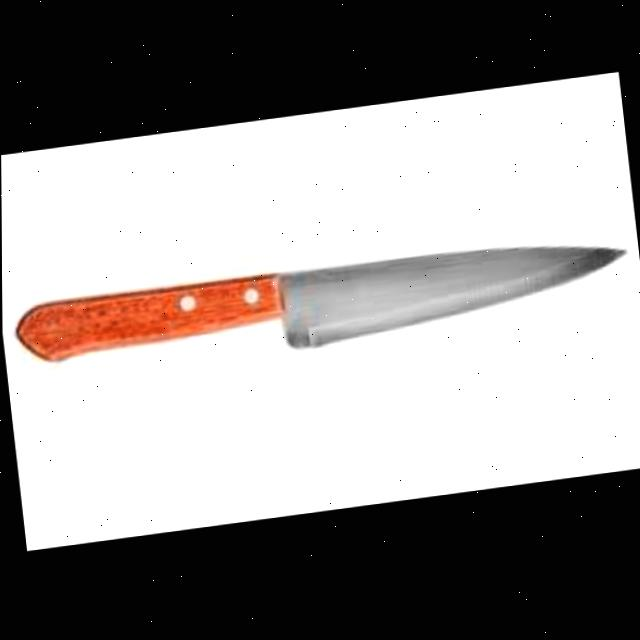knife: (12, 224, 634, 383)
